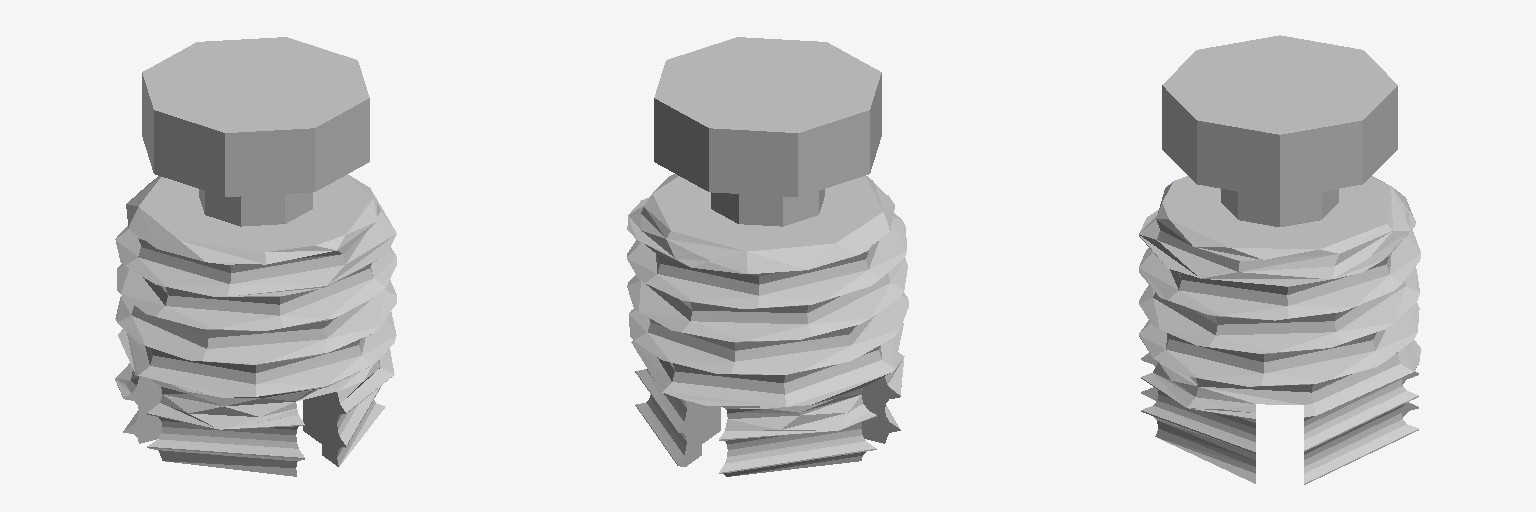
The model's file is Hinge_Wing_Screw.obj.
3 views of the same model, side by side, from view 1: azimuth 30°, elevation 25°; view 2: azimuth 150°, elevation 25°; view 3: azimuth 270°, elevation 25° (orthographic).
Visible parts, largest first — view 1: [number redacted]; view 2: [number redacted]; view 3: [number redacted].
Boxes of the visible parts, <box> form: [number redacted]: <box>115,37,396,476</box>; [number redacted]: <box>627,37,908,476</box>; [number redacted]: <box>1139,35,1420,484</box>.
Bounding box in the file's own units: 6 × 8 × 6.